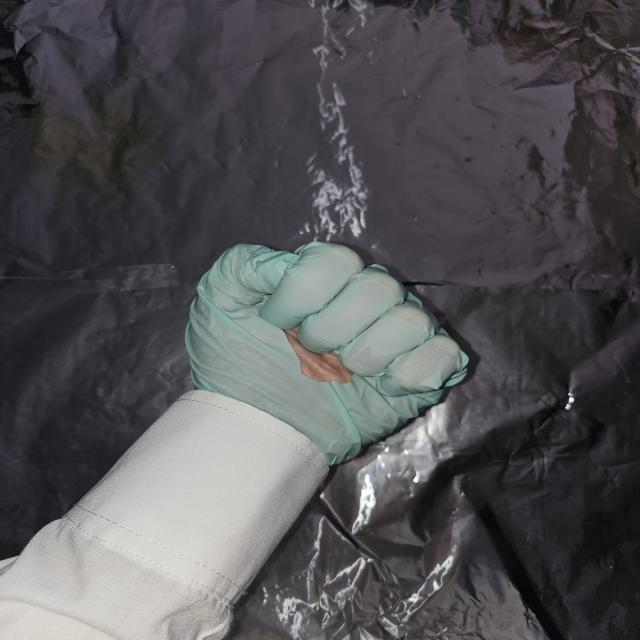gloves_damaged: (182, 238, 472, 463)
